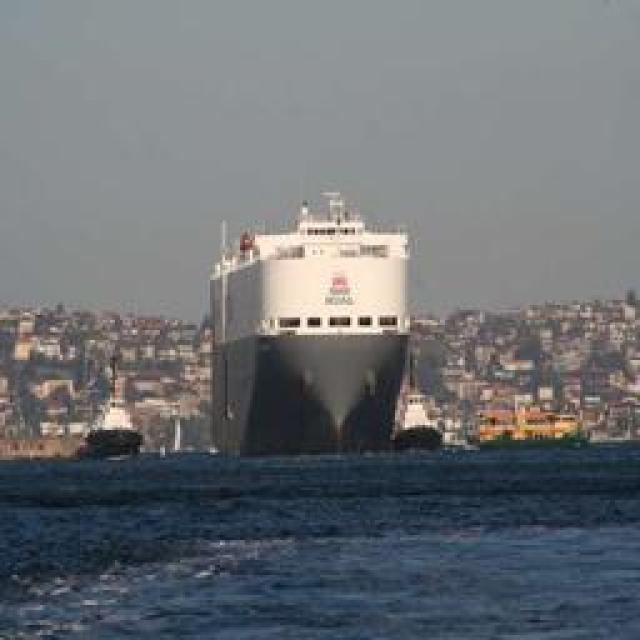CIV_Ship: (205, 185, 420, 453)
